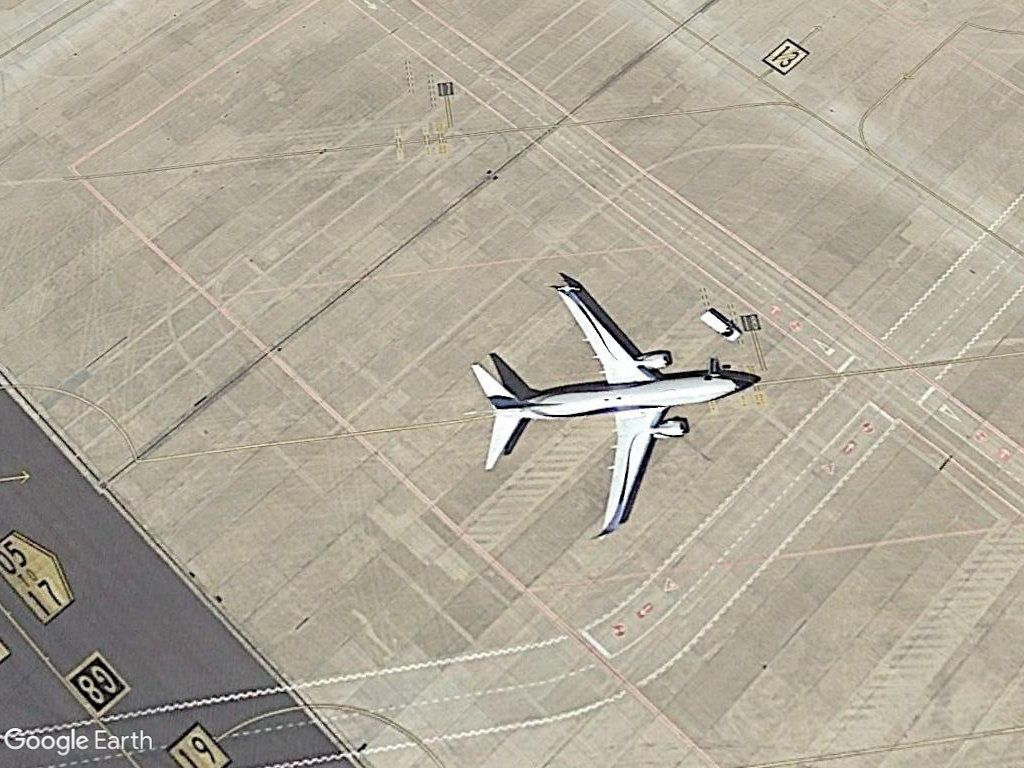airliner: (460, 279, 752, 546)
van: (695, 303, 744, 343)
